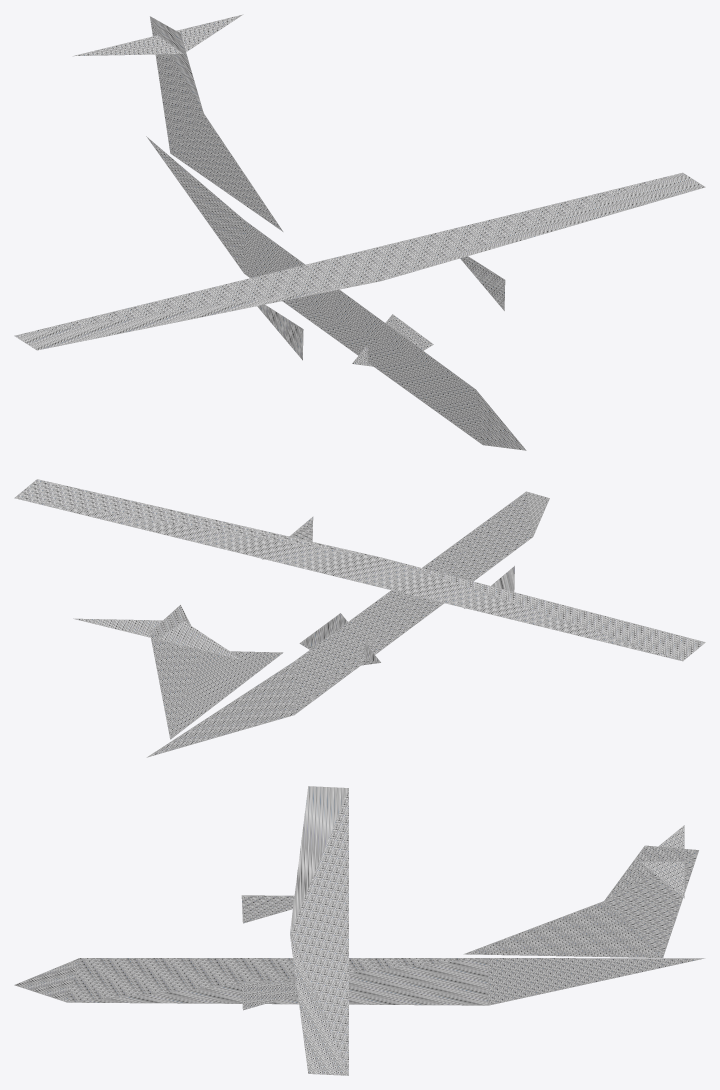
File: OSP_ATR_72-210_MSFS_LOD1.gltf
The picture shows the model from 3 angles, top to bottom: view 1: azimuth 30°, elevation 25°; view 2: azimuth 150°, elevation 25°; view 3: azimuth 270°, elevation 25°; orthographic projection. The views are drawn at different scales.
Visible parts, largest first — view 1: node1; view 2: node1; view 3: node1.
Boxes of the visible parts, bbox=[...] form: node1: bbox=[14, 14, 705, 450]; node1: bbox=[14, 479, 705, 757]; node1: bbox=[14, 786, 704, 1075].
Bounding box in the file's own units: 26.7 × 6.89 × 27.12.
